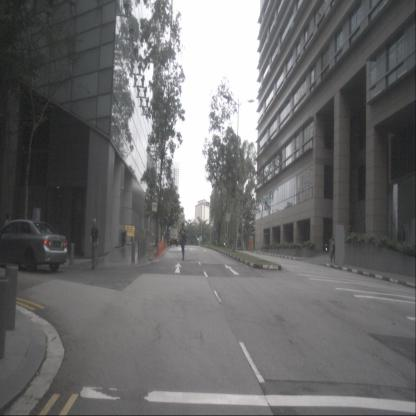cone: (158, 244, 161, 255), (164, 240, 167, 248), (160, 242, 163, 250), (157, 245, 159, 256), (163, 240, 165, 250)
